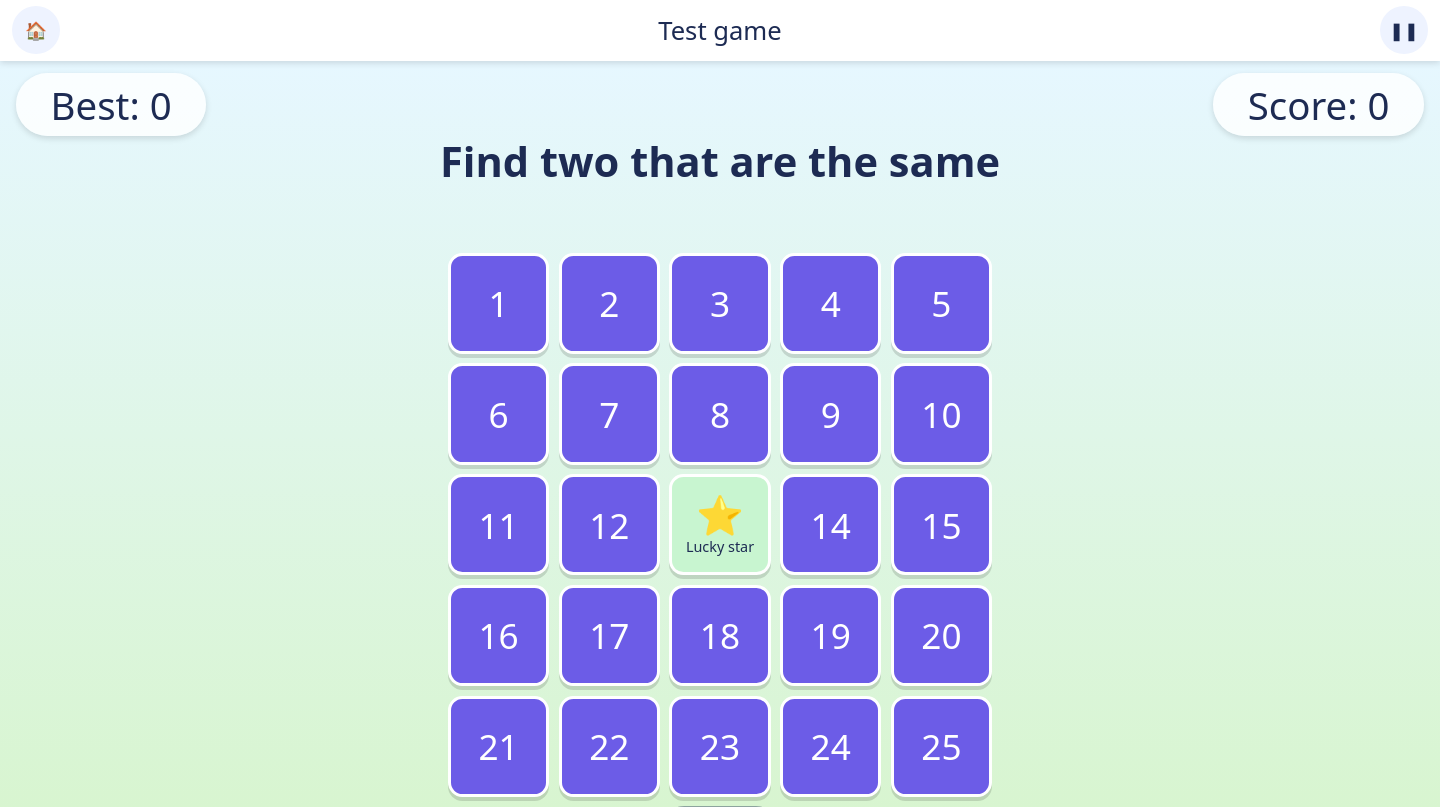
it: MatchScreen › keeps a matching pair showing and says it is a match
Click the button "1" at {"x": 499, "y": 303}, box [448, 253, 549, 354]
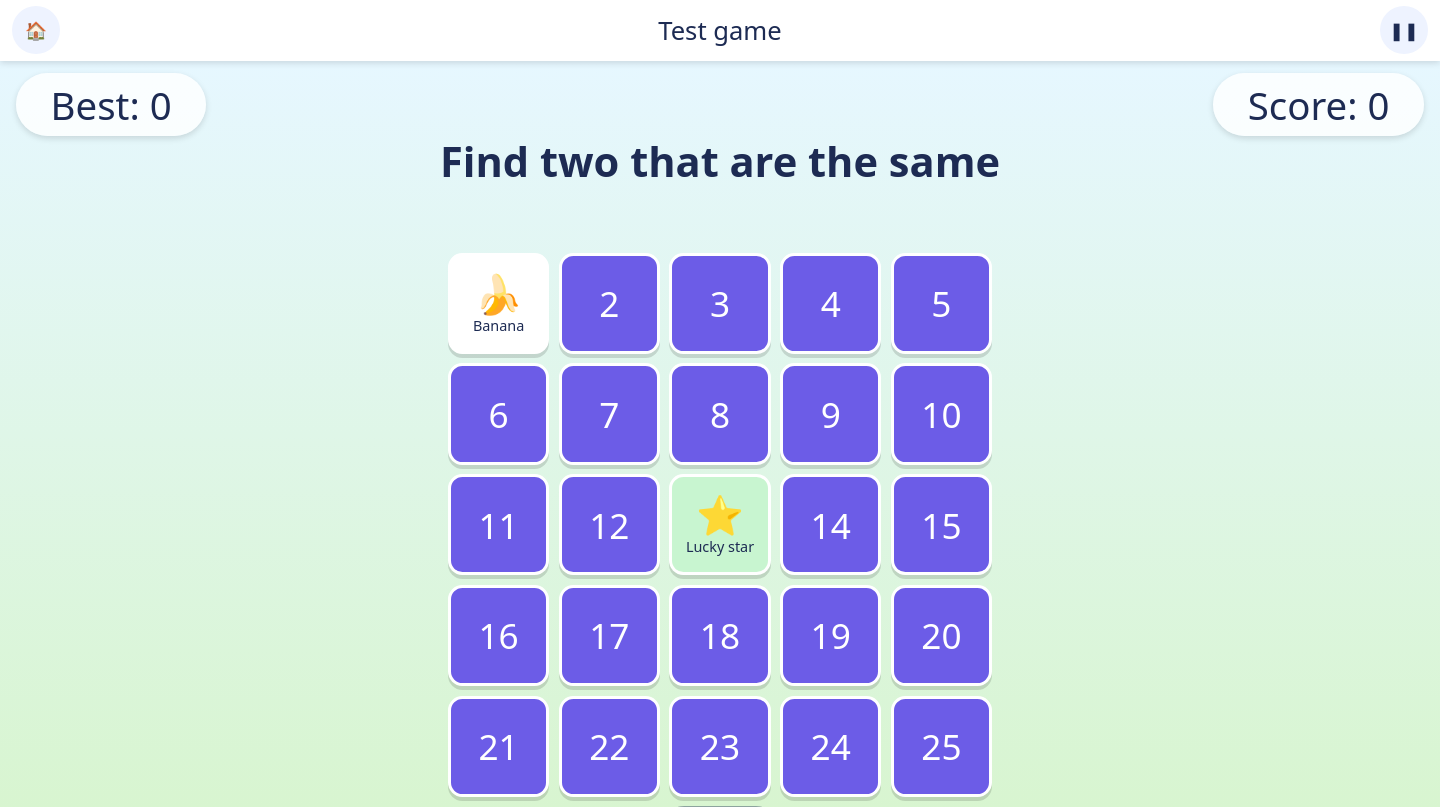
Click the button "25" at {"x": 941, "y": 746}, box [891, 696, 992, 797]
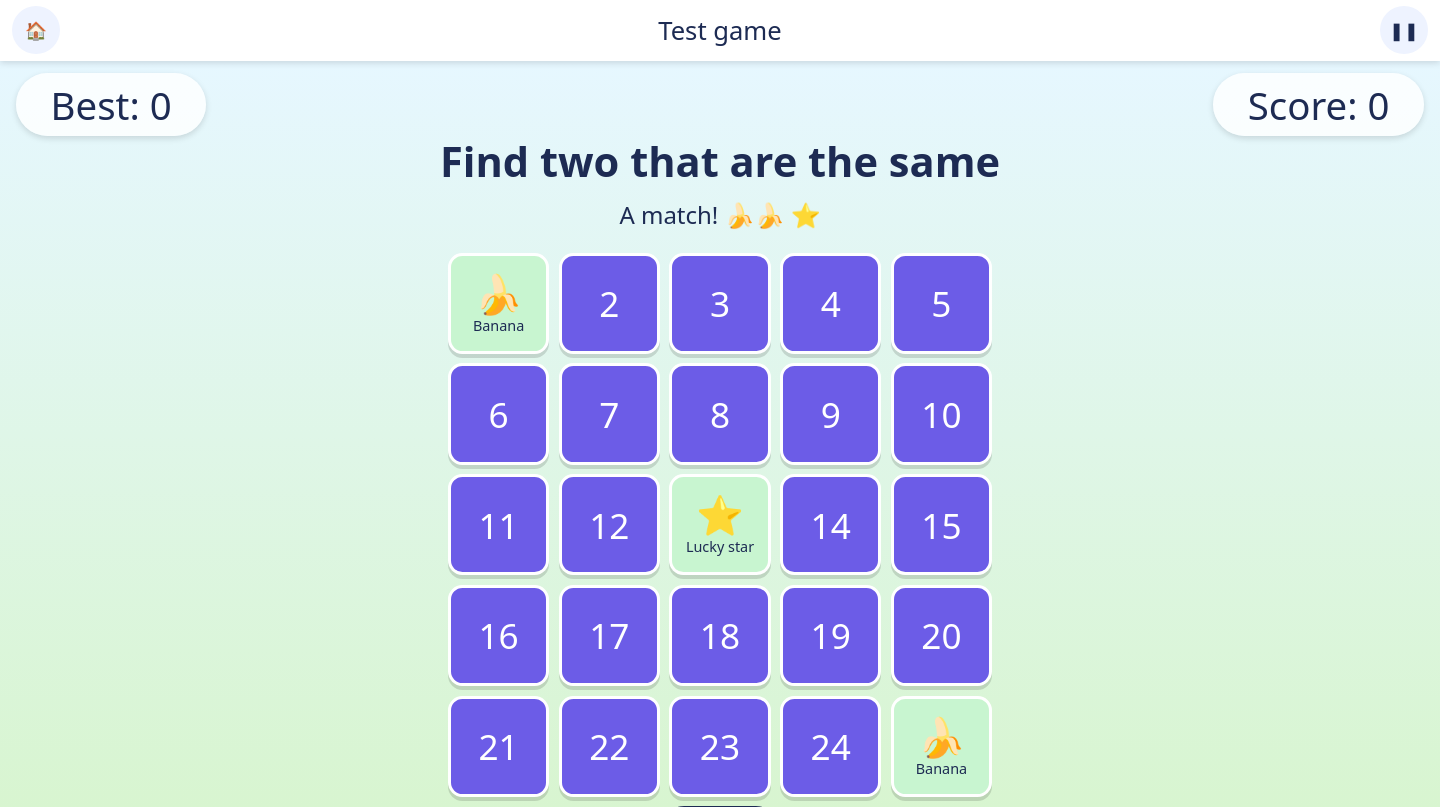
Expected: the 1st button "🍌 Banana" is disabled, [448, 253, 549, 354]
Expected: the 2nd button "🍌 Banana" is disabled, [891, 696, 992, 797]
